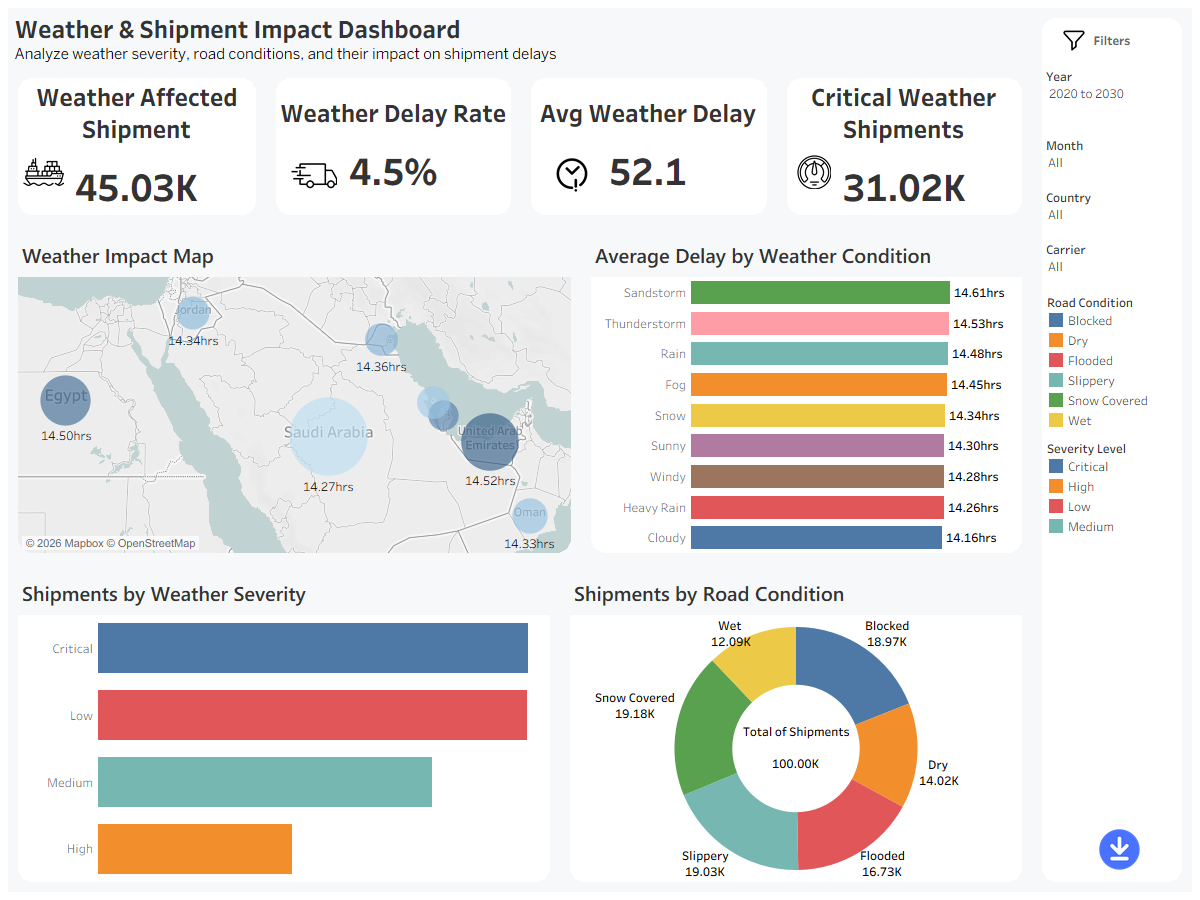

What the dashboard file says about the page in this screenshot:
{"tool":"tableau","page":{"name":"Weather & Shipment Impact Dashboard","canvas":[1200,900],"ordinal":6},"visuals":[{"type":"title","box":[8,8,1024,60]},{"type":"text","box":[1042,18,140,45]},{"type":"image","param":"Image/filter.png","box":[1061,27,26,25]},{"type":"filter","title":"Average Delay by Weather Condition","param":"[federated.0jvln5y0i2vktg16s0ugy1m90pce].[none:year_number:qk]","box":[1042,63,140,69]},{"type":"worksheet","title":"KPI - Weather-Affected Shipments","mark":"Automatic","box":[8,68,258,157]},{"type":"worksheet","title":"KPI - Weather Delay Rate","mark":"Automatic","box":[266,68,255.3,157]},{"type":"worksheet","title":"KPI - Avg Delay Hours (High/Critical Weather)","mark":"Automatic","box":[521.3,68,255.3,157]},{"type":"worksheet","title":"KPI - Critical Weather Shipments","mark":"Automatic","box":[776.7,68,255.3,157]},{"type":"filter","title":"Average Delay by Weather Condition","param":"[federated.0jvln5y0i2vktg16s0ugy1m90pce].[none:month_name:nk]","box":[1042,132,140,52]},{"type":"image","param":"Image/cargo-ship.png","box":[22,151,44,41]},{"type":"image","param":"Image/delivery-truck(2).png","box":[286,152,56,46]},{"type":"image","param":"Image/pending.png","box":[547,154,49,41]},{"type":"image","param":"Image/performance.png","box":[795,155,39,34]},{"type":"filter","title":"Average Delay by Weather Condition","param":"[federated.0jvln5y0i2vktg16s0ugy1m90pce].[none:country:nk]","box":[1042,184,140,52]},{"type":"worksheet","title":"Weather Impact Map","mark":"Automatic","box":[8,225,573,338]},{"type":"worksheet","title":"Average Delay by Weather Condition","mark":"Automatic","rows":["weather_condition"],"cols":["delay_hours"],"box":[581,225,451,338]},{"type":"filter","title":"Average Delay by Weather Condition","param":"[federated.0jvln5y0i2vktg16s0ugy1m90pce].[none:carrier_name:nk]","box":[1042,236,140,52]},{"type":"legend","title":"Shipments by Road Condition","param":"[federated.0jvln5y0i2vktg16s0ugy1m90pce].[none:road_condition:nk]","box":[1042,288,140,146]},{"type":"legend","title":"Shipments by Weather Severity","param":"[federated.0jvln5y0i2vktg16s0ugy1m90pce].[none:severity_level:nk]","box":[1042,434,140,106]},{"type":"worksheet","title":"Shipments by Weather Severity","mark":"Bar","rows":["severity_level"],"cols":["shipment_id"],"box":[8,563,552,329]},{"type":"worksheet","title":"Shipments by Road Condition","mark":"Pie","cols":["Calculation_1349133184978974","Calculation_1349133184978974"],"box":[560,563,472,329]},{"type":"dashboard-object","box":[1096,827,47,44]}]}

Visuals, with their boxes in screenshot pixels (x1, y1, x2, y2), scaled from the page's 1200x900 canvas onto the 1200x900 screenshot:
title: region(8, 8, 1032, 68)
text: region(1042, 18, 1182, 63)
image: region(1061, 27, 1087, 52)
"Average Delay by Weather Condition" filter: region(1042, 63, 1182, 132)
"KPI - Weather-Affected Shipments" worksheet: region(8, 68, 266, 225)
"KPI - Weather Delay Rate" worksheet: region(266, 68, 521, 225)
"KPI - Avg Delay Hours (High/Critical Weather)" worksheet: region(521, 68, 777, 225)
"KPI - Critical Weather Shipments" worksheet: region(777, 68, 1032, 225)
"Average Delay by Weather Condition" filter: region(1042, 132, 1182, 184)
image: region(22, 151, 66, 192)
image: region(286, 152, 342, 198)
image: region(547, 154, 596, 195)
image: region(795, 155, 834, 189)
"Average Delay by Weather Condition" filter: region(1042, 184, 1182, 236)
"Weather Impact Map" worksheet: region(8, 225, 581, 563)
"Average Delay by Weather Condition" worksheet: region(581, 225, 1032, 563)
"Average Delay by Weather Condition" filter: region(1042, 236, 1182, 288)
"Shipments by Road Condition" legend: region(1042, 288, 1182, 434)
"Shipments by Weather Severity" legend: region(1042, 434, 1182, 540)
"Shipments by Weather Severity" worksheet (Bar marks): region(8, 563, 560, 892)
"Shipments by Road Condition" worksheet (Pie marks): region(560, 563, 1032, 892)
dashboard-object: region(1096, 827, 1143, 871)
